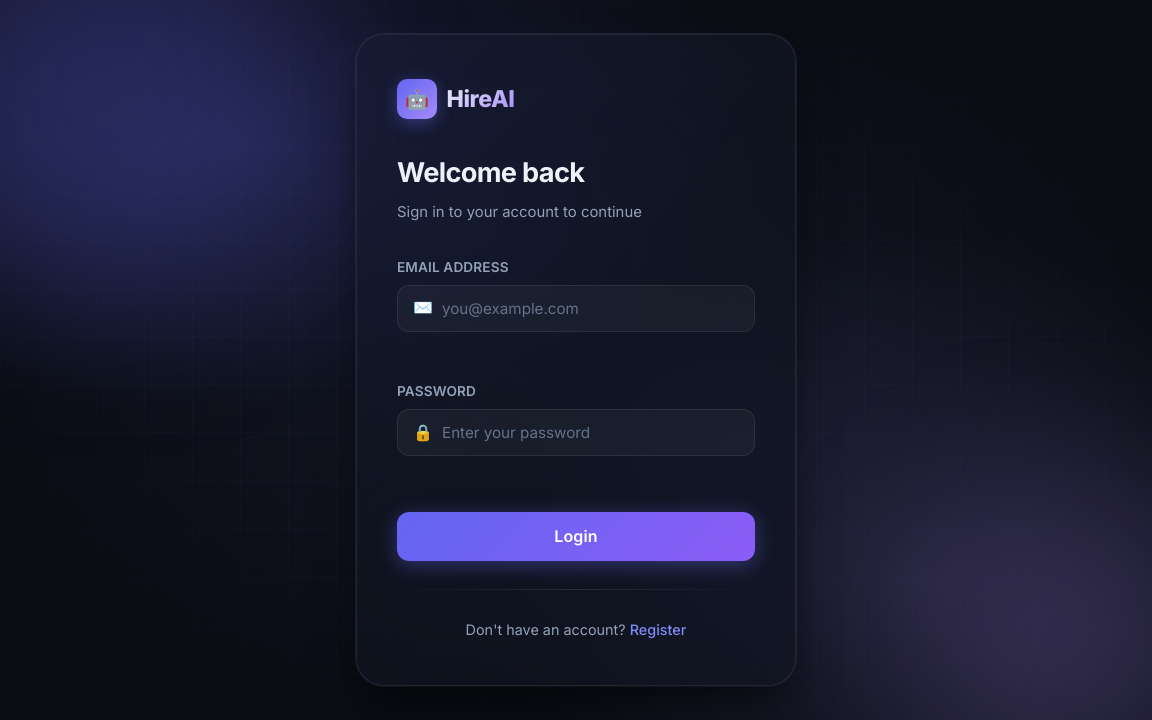
Login Page — Full Mutation & Accessibility Tests › shows validation errors when submitted with empty fields
Step 1. Click the button "Login" → (576, 536), box x1=397 y1=512 x2=755 y2=561
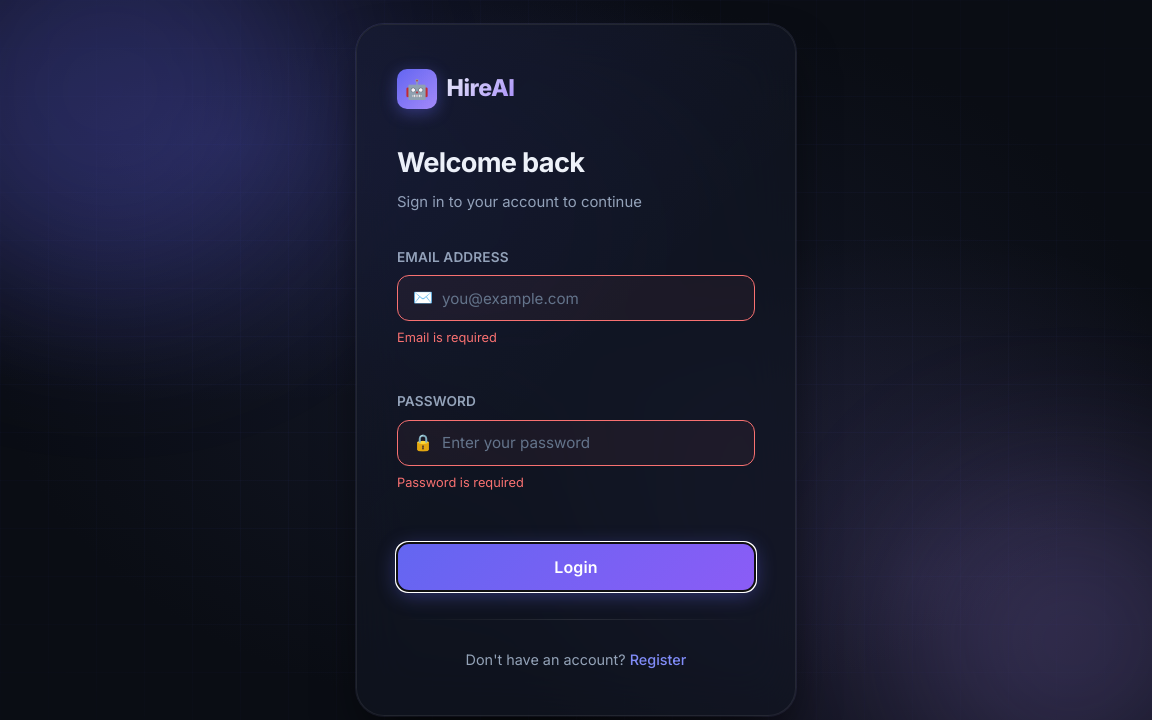
Expected: the text "Email is required" is shown, x1=397 y1=330 x2=497 y2=345
Expected: the text "Password is required" is shown, x1=397 y1=475 x2=524 y2=490
